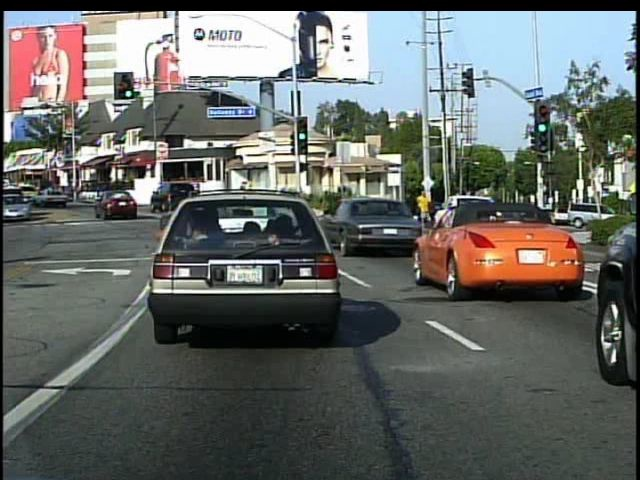person: (414, 187, 432, 228), (402, 191, 420, 230)
